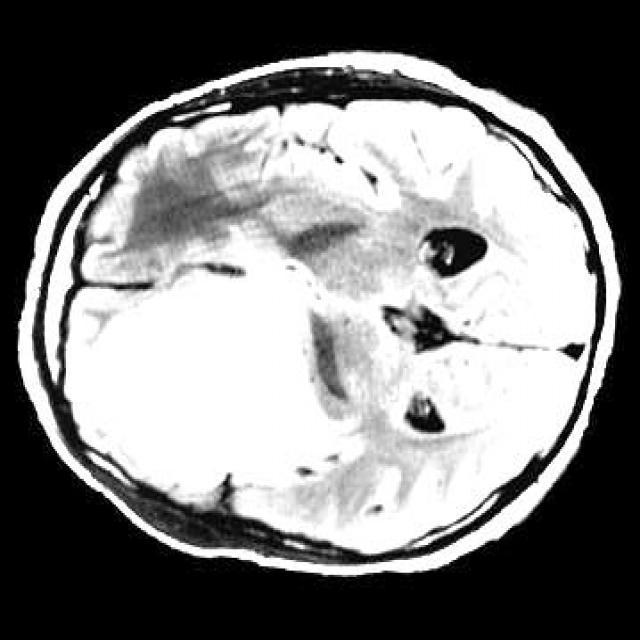tumor: (98, 271, 348, 501)
